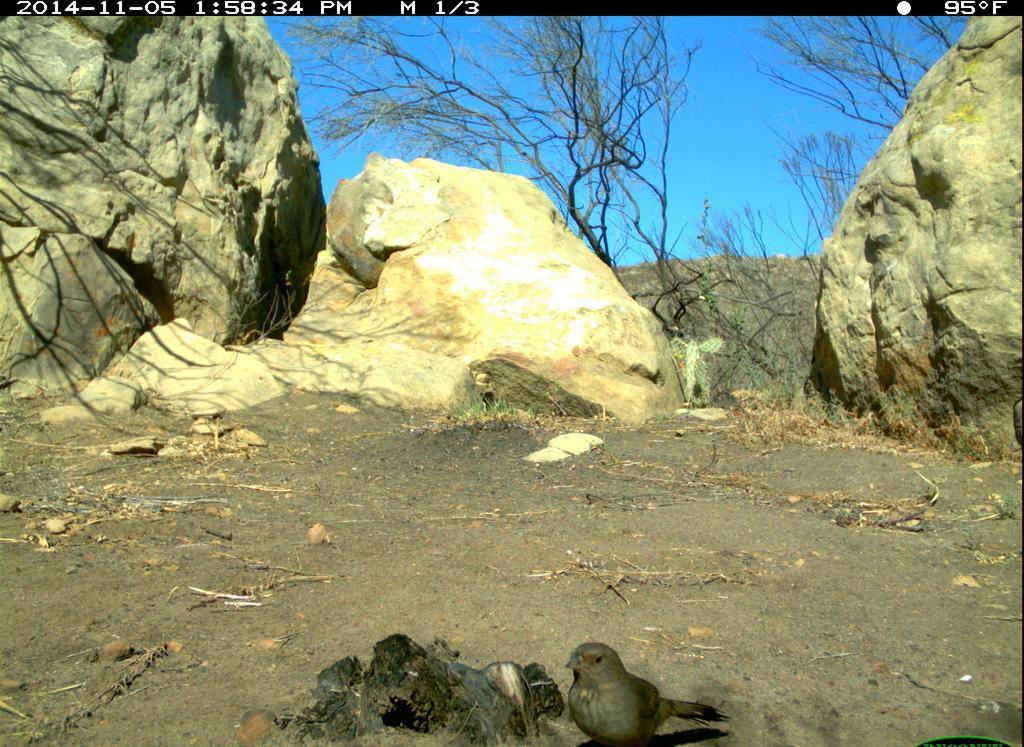bird: (536, 635, 722, 743)
